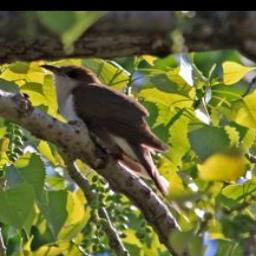Cuckoo: (39, 61, 175, 213)
